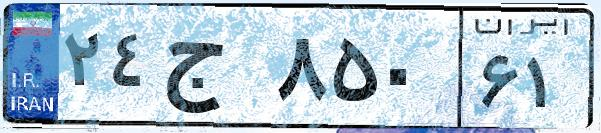0: (385, 28, 445, 110)
1: (525, 38, 570, 115)
2: (57, 26, 110, 100)
4: (110, 28, 158, 98)
5: (330, 28, 385, 110)
6: (475, 38, 525, 113)
8: (270, 28, 330, 110)
ج: (158, 20, 270, 120)
